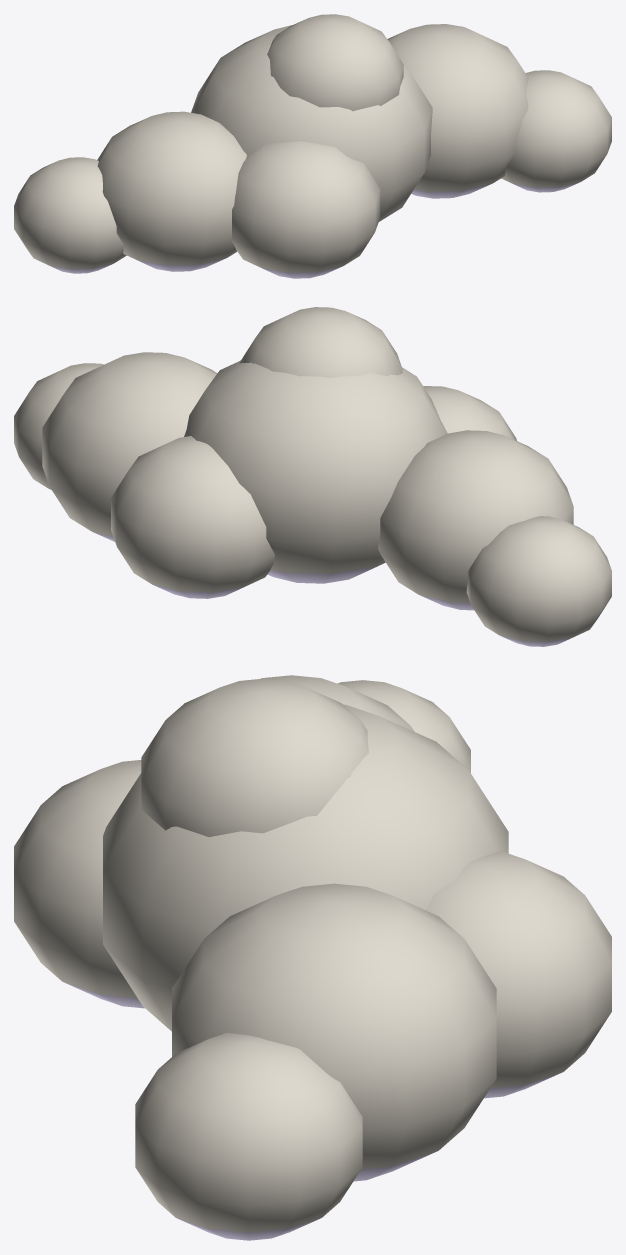
The model's file is cloud_puff.glb.
3 renders of one model, top to bottom at view 1: azimuth 30°, elevation 25°; view 2: azimuth 150°, elevation 25°; view 3: azimuth 270°, elevation 25°, orthographic. The views are drawn at different scales.
Parts seen in each view (by area): view 1: cloud_puff; view 2: cloud_puff; view 3: cloud_puff.
Boxes of the visible parts, x1,y1,x2,y2 form: cloud_puff: (14, 14, 611, 278); cloud_puff: (14, 307, 611, 646); cloud_puff: (14, 675, 611, 1240).
Bounding box in the file's own units: 3.8 × 1.42 × 2.1.
